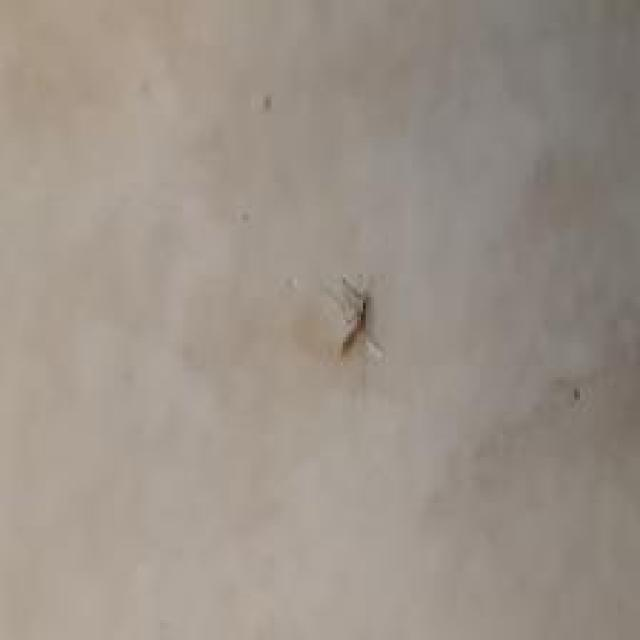Culex: (331, 271, 386, 363)
